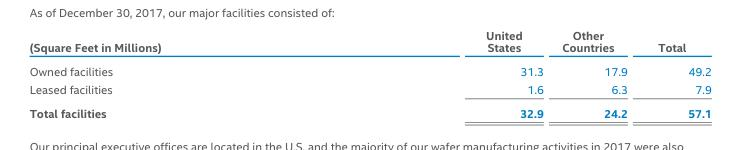table: (28, 28, 710, 119)
table column: (28, 28, 322, 119), (322, 28, 551, 119), (551, 28, 642, 119), (642, 28, 710, 119)
table column header: (28, 28, 710, 58)
table row: (28, 28, 710, 58), (28, 58, 710, 79), (28, 79, 710, 100), (28, 100, 710, 119)
